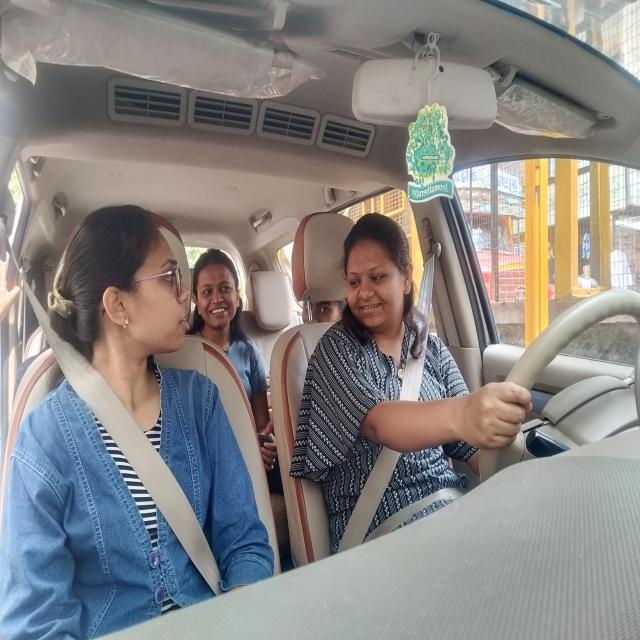LeftRight: (340, 212, 421, 351)
person: (58, 203, 188, 384), (192, 244, 246, 343)
talking: (357, 295, 390, 323)
